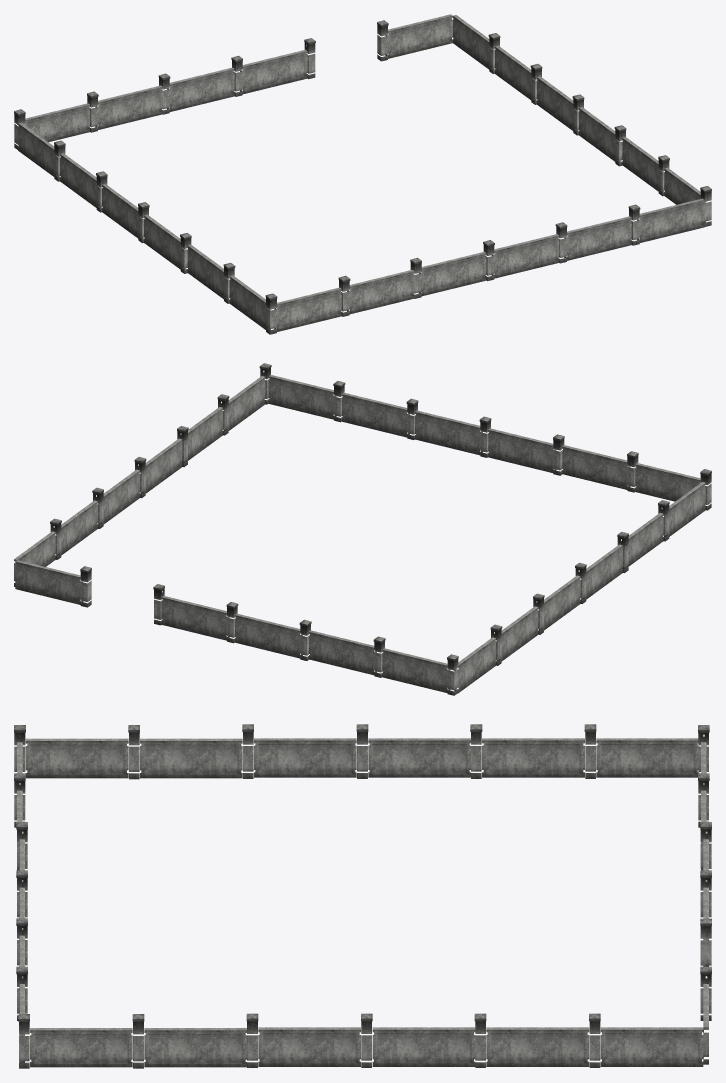
File: material3.004_lev3.glb
The picture shows the model from 3 angles, top to bottom: view 1: azimuth 30°, elevation 25°; view 2: azimuth 150°, elevation 25°; view 3: azimuth 270°, elevation 25°; orthographic projection. The views are drawn at different scales.
Parts seen in each view (by area): view 1: material3.004_lev3; view 2: material3.004_lev3; view 3: material3.004_lev3.
Boxes of the visible parts, x1,y1,x2,y2 form: material3.004_lev3: (14,14,711,334); material3.004_lev3: (14,363,711,695); material3.004_lev3: (14,724,711,1068).
Bounding box in the file's own units: 3.53 × 0.2866 × 3.52.
Materials: 1 (1 with a texture image).
